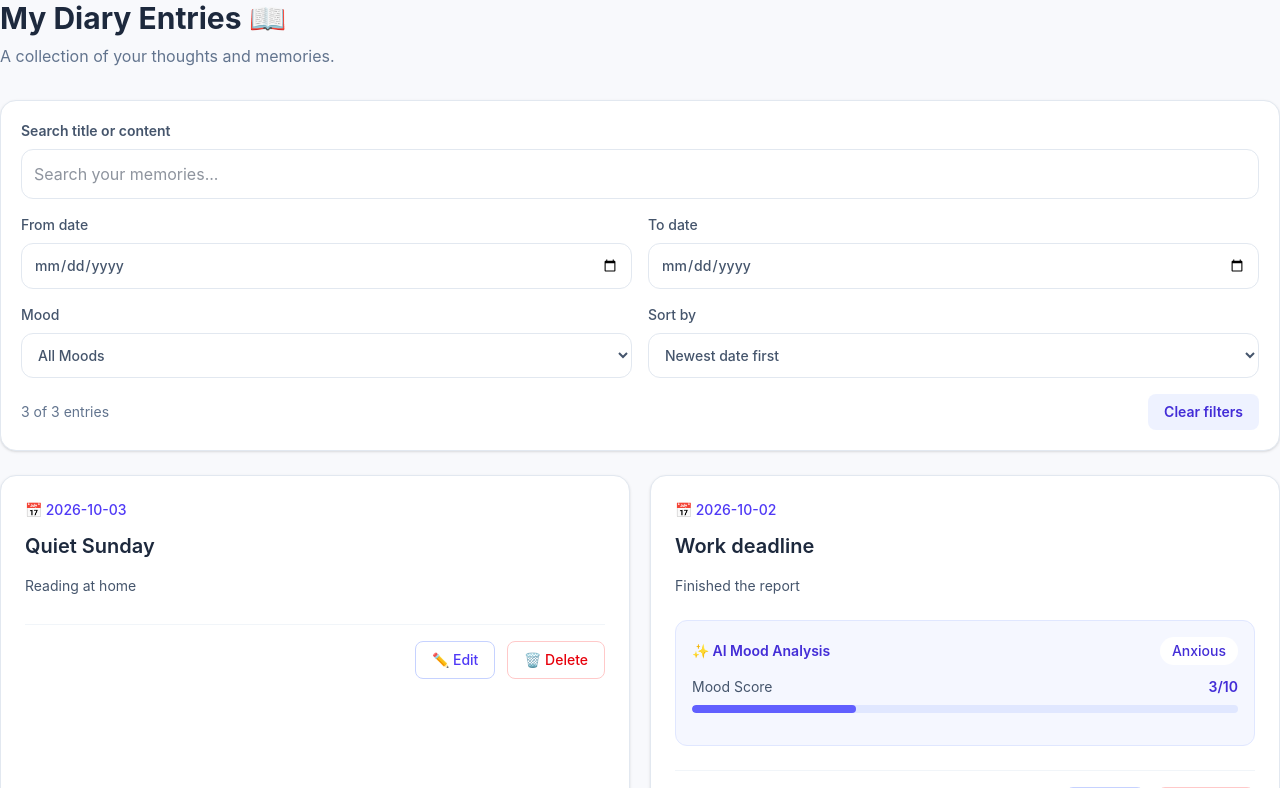
Diary search and filters › distinguishes invalid date ranges from no matching entries
Type "2026-10-03" into the date field labelled "From date" at (326,266), box x1=21 y1=243 x2=632 y2=289
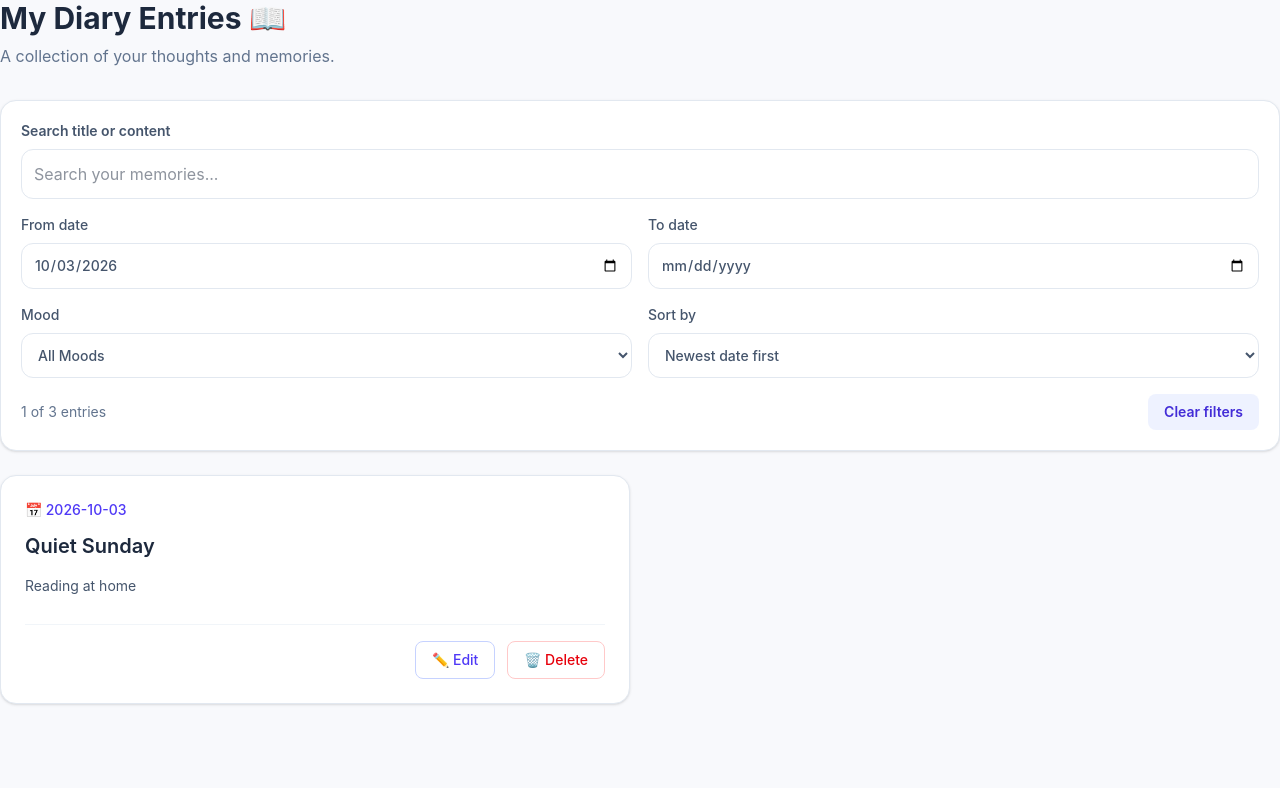
Type "2026-10-01" into the date field labelled "To date" at (954,266), box x1=648 y1=243 x2=1259 y2=289
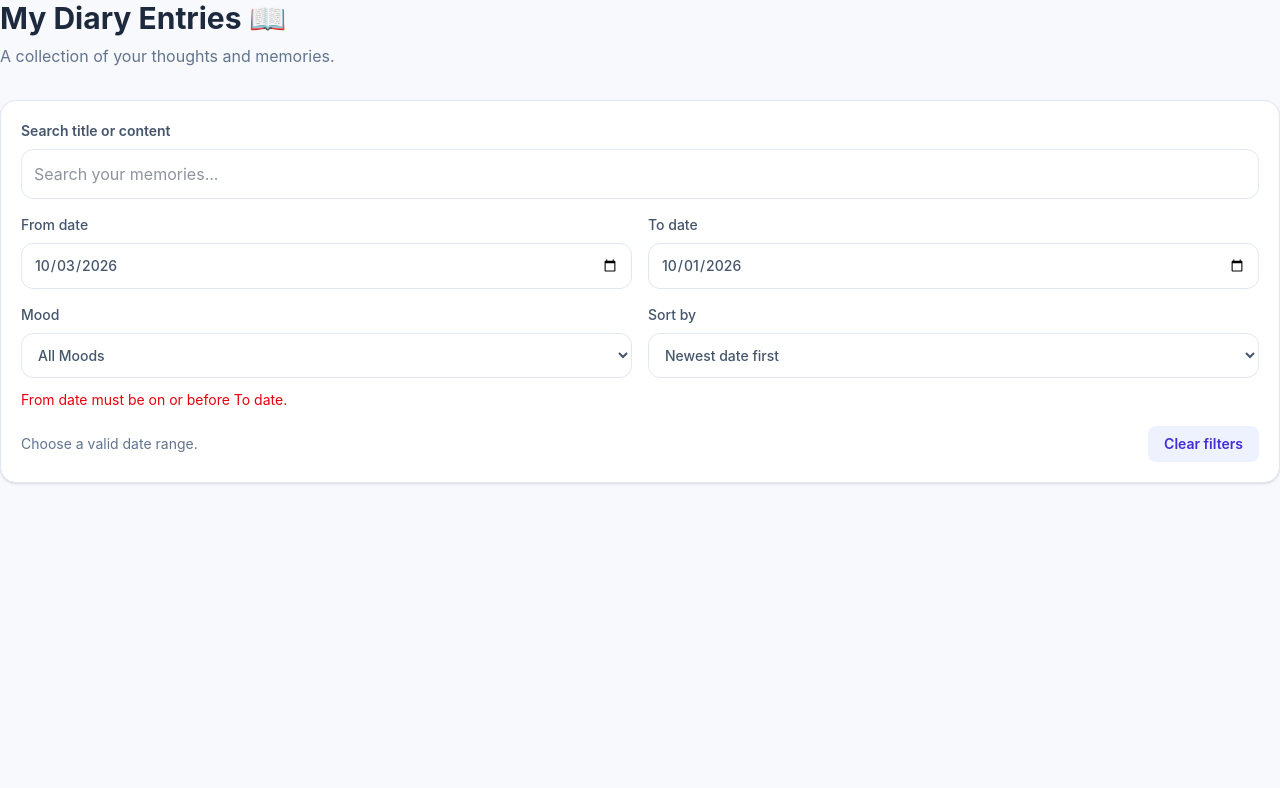
Expected: the text "No entries match your filters." is not shown
Result: the message "From date must be on or before To date." is shown at x1=21 y1=391 x2=287 y2=408
Type "2026-09-01" into the date field labelled "From date" at (326,266), box x1=21 y1=243 x2=632 y2=289
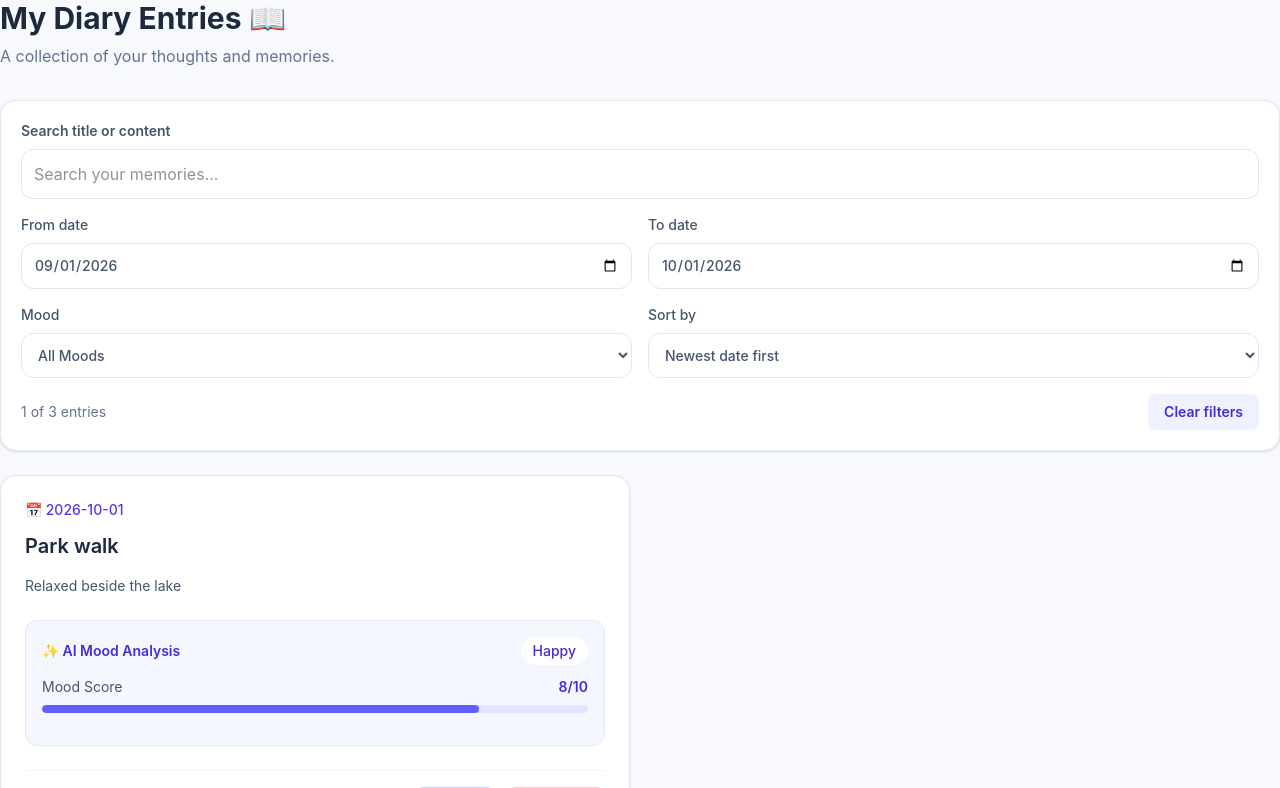
Type "2026-09-30" into the date field labelled "To date" at (954,266), box x1=648 y1=243 x2=1259 y2=289
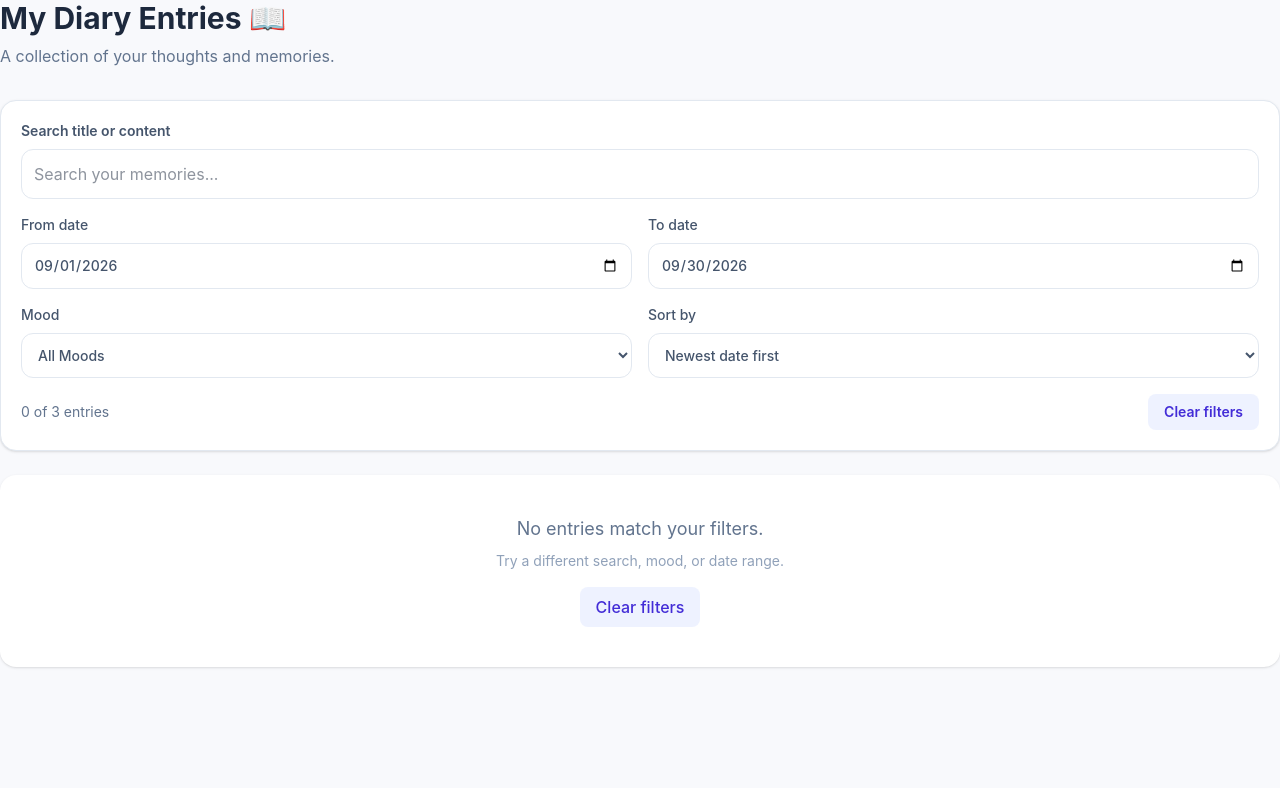
Result: the text "No entries match your filters." is shown at x1=517 y1=518 x2=763 y2=539
